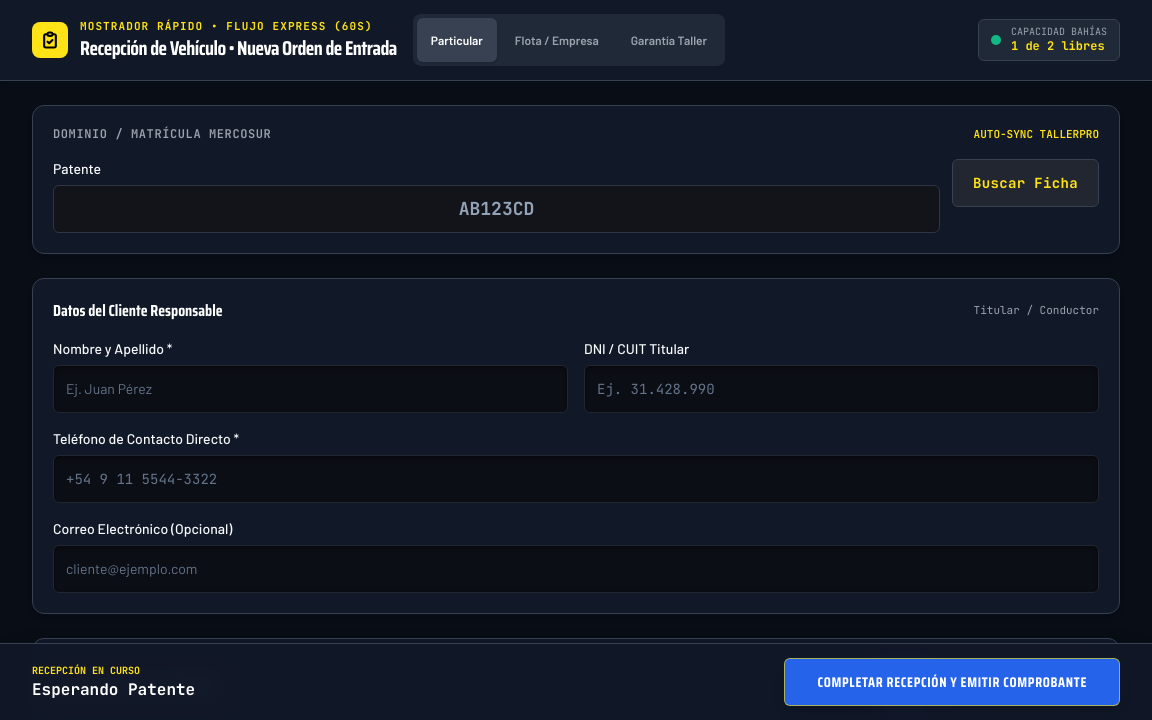
Scenario: RecepcionPage - Mostrador Rápido & Recepción Express › busca y precarga la ficha del vehículo al ingresar patente y presionar Buscar
In the field labelled "Patente": (496, 208) [53,184,940,232], type "AF123CD"
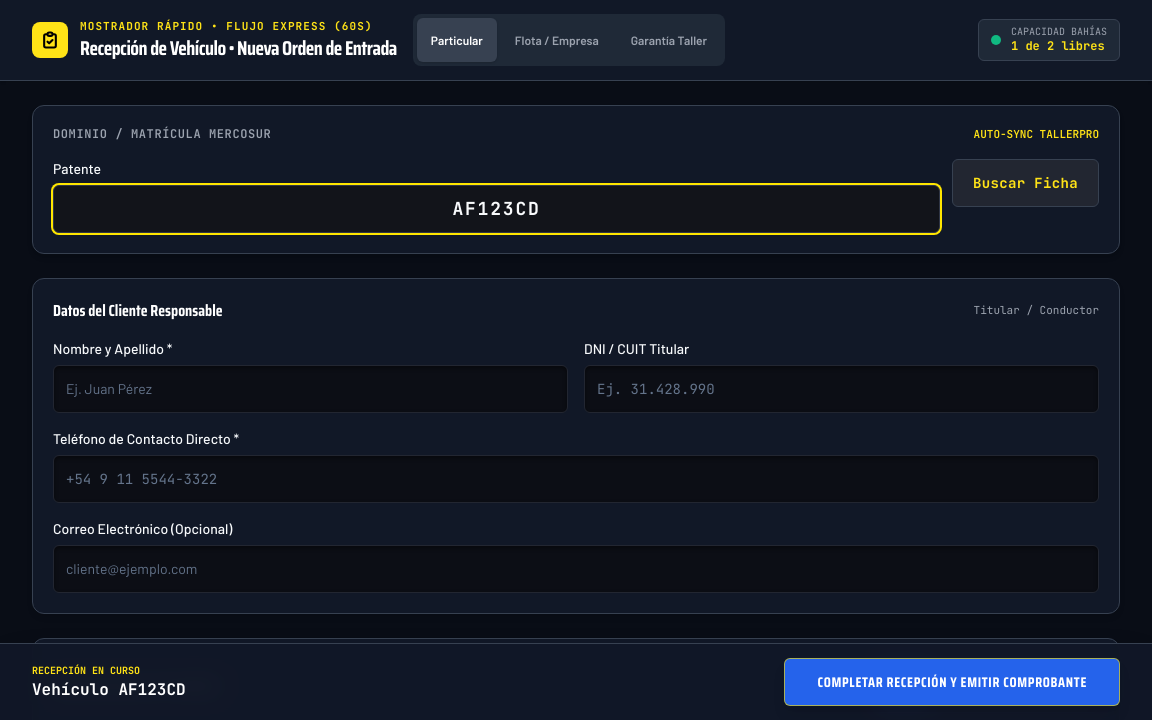
Click the button "Buscar Ficha": (1026, 182) [952,158,1099,206]
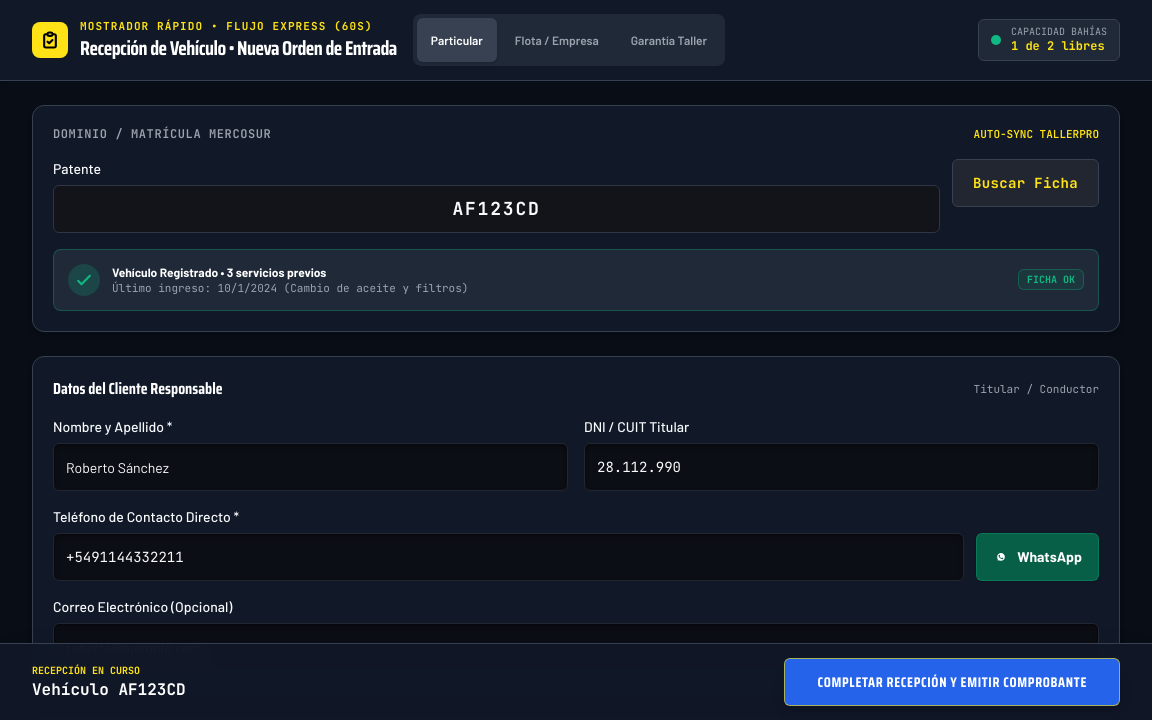
expect the field showing "Roberto Sánchez" is shown: met, box [53,443,568,491]
expect the field showing "+5491144332211" is shown: met, box [53,533,964,581]
expect the field showing "28.112.990" is shown: met, box [584,443,1099,491]
